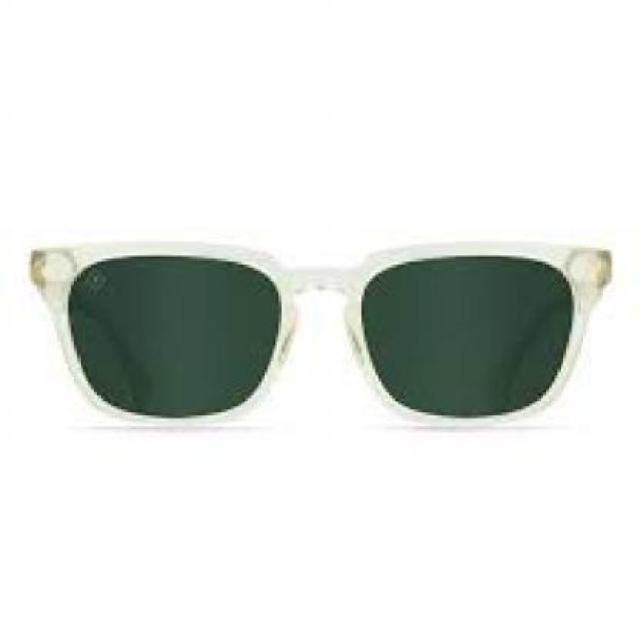gozluk: (8, 211, 626, 469)
